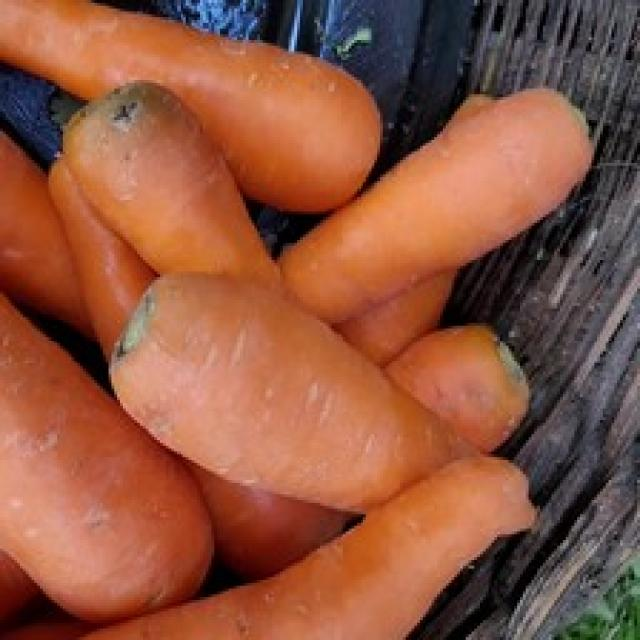Fresh_Carrot: (288, 103, 543, 370), (161, 268, 420, 512)
